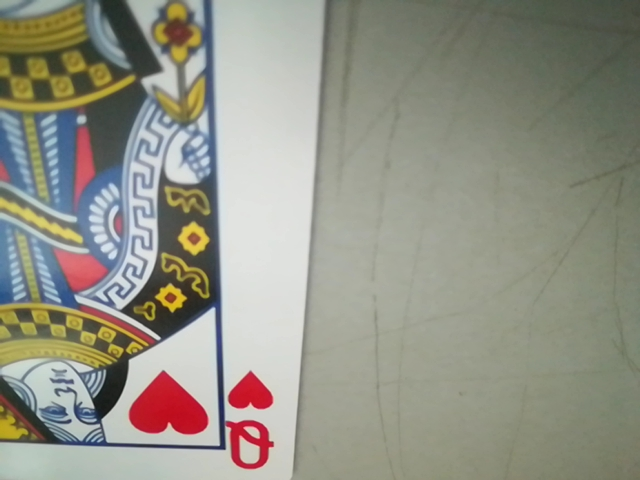hx q: (219, 366, 288, 477)
